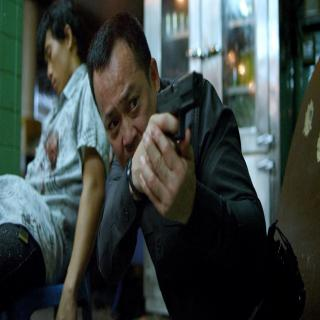gun: (147, 62, 204, 205)
